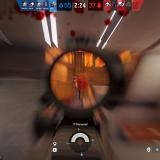Character: (71, 75, 84, 100)
Head: (74, 75, 78, 79)
